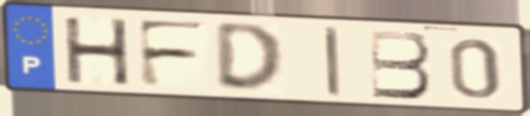0: (445, 36, 506, 100)
B: (366, 28, 435, 101)
D: (212, 21, 288, 95)
F: (133, 17, 211, 90)
H: (59, 16, 134, 88)
I: (320, 25, 344, 99)
